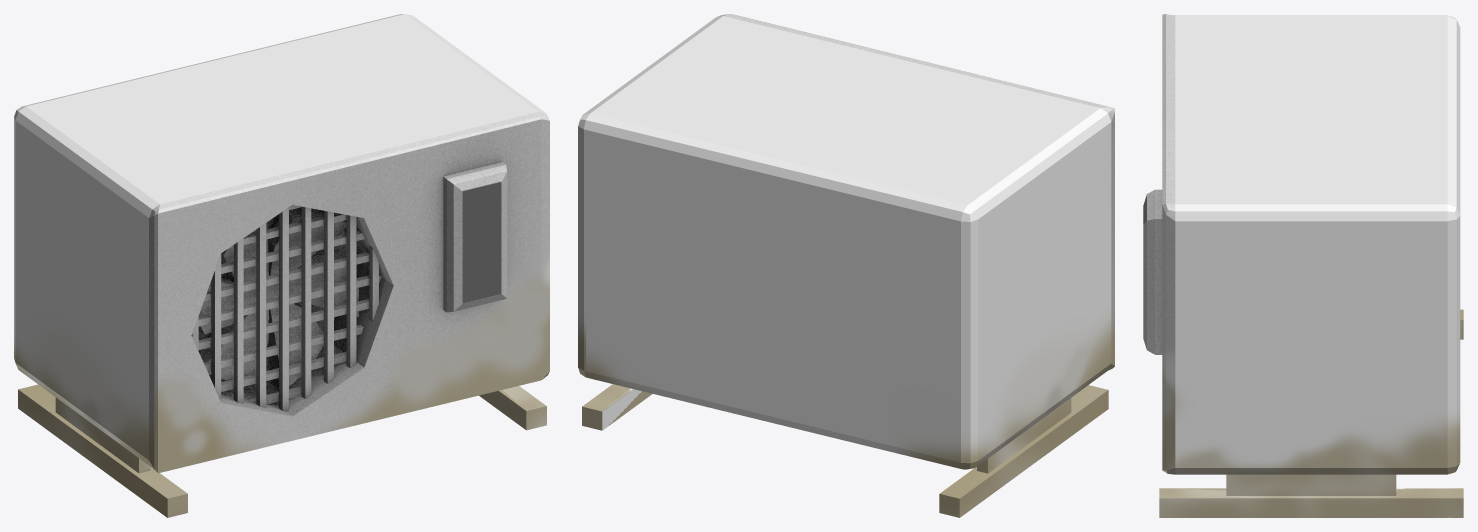
Rendered from P_AC_EXHAUST_GROUND.fbx.
The picture shows the model from 3 angles, left to right: view 1: azimuth 30°, elevation 25°; view 2: azimuth 150°, elevation 25°; view 3: azimuth 270°, elevation 25°; orthographic projection. The views are drawn at different scales.
Visible parts, largest first — view 1: AC_Exhaust_Ground; view 2: AC_Exhaust_Ground; view 3: AC_Exhaust_Ground.
Boxes of the visible parts, left/top/right/bottom form: AC_Exhaust_Ground: left=14, top=14, right=549, bottom=517; AC_Exhaust_Ground: left=578, top=14, right=1114, bottom=517; AC_Exhaust_Ground: left=1143, top=14, right=1463, bottom=517.
Bounding box in the file's own units: 128 × 94.23 × 87.15.
